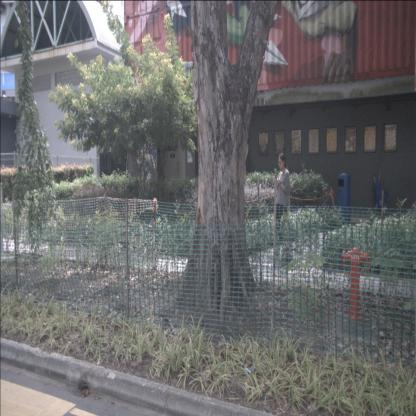human-pedestrian-adult: (274, 152, 291, 266)
